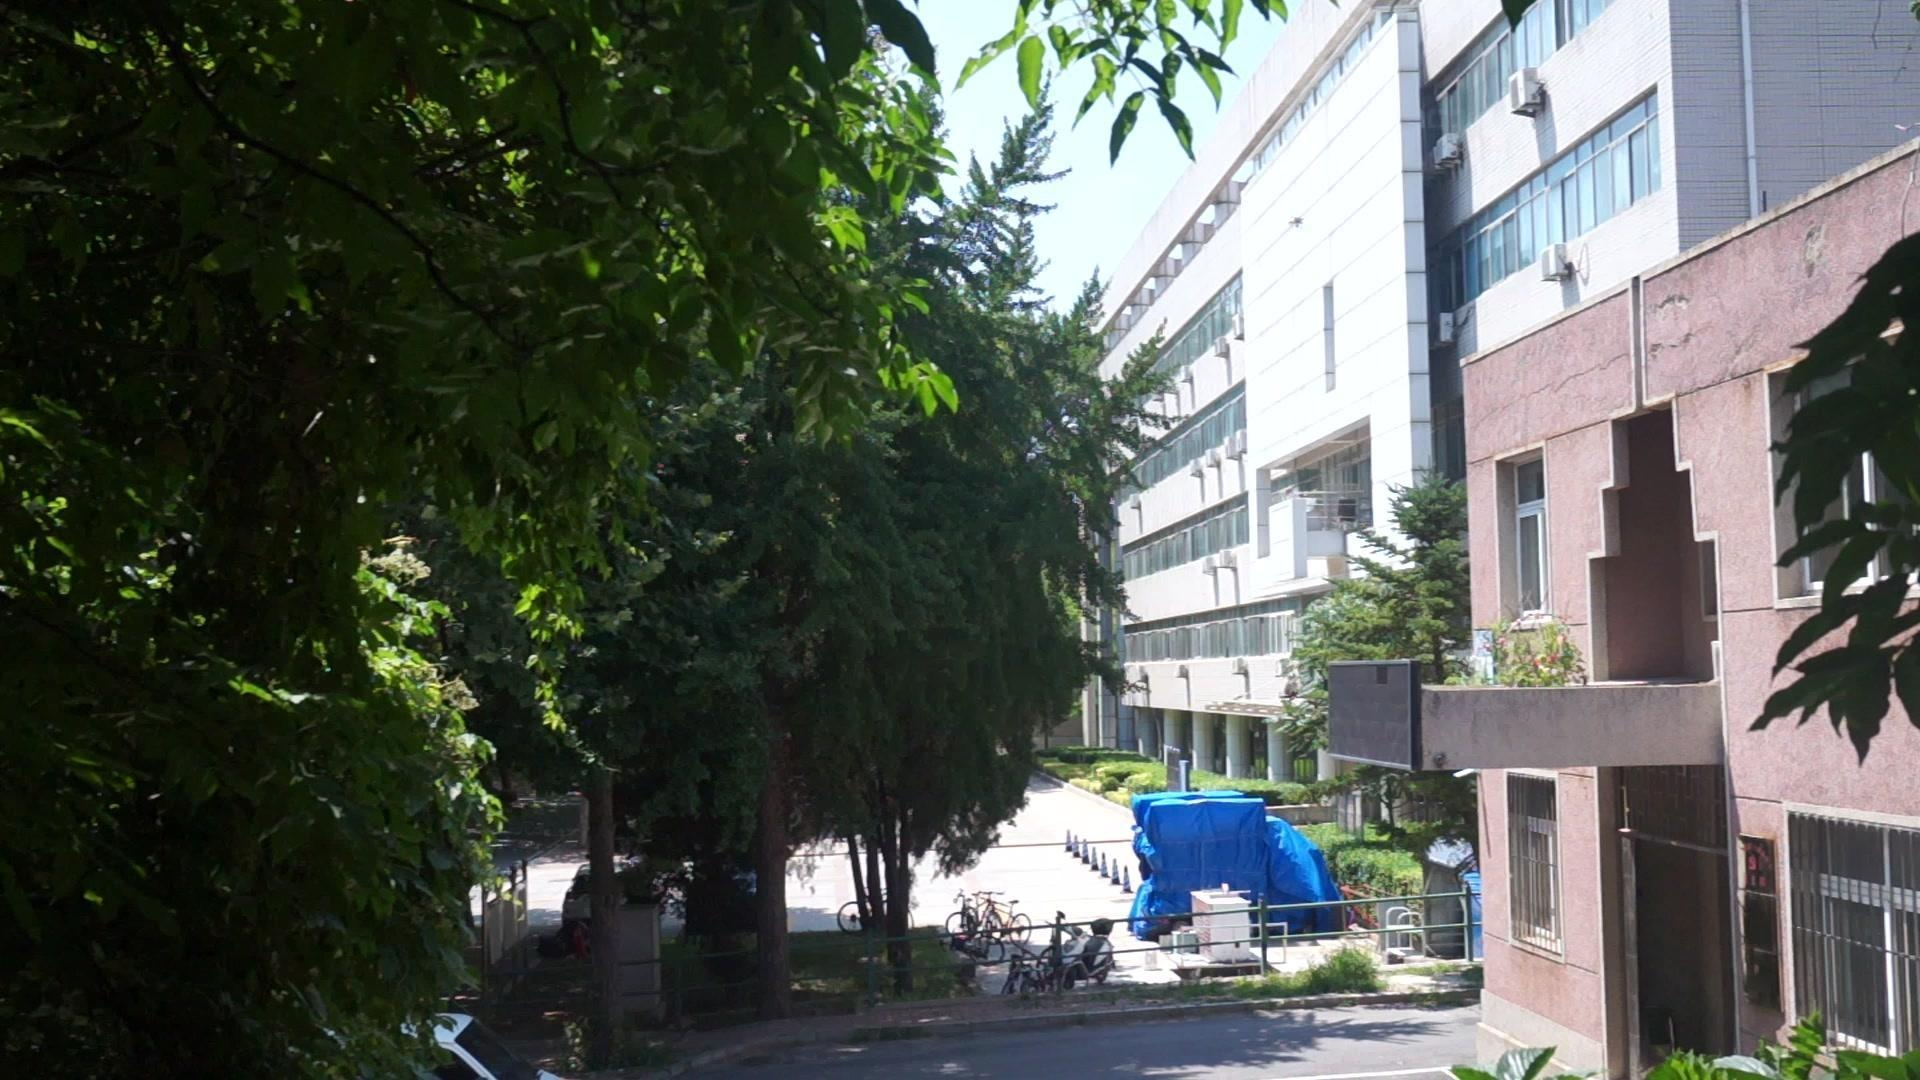UAV: (1290, 216, 1305, 229)
